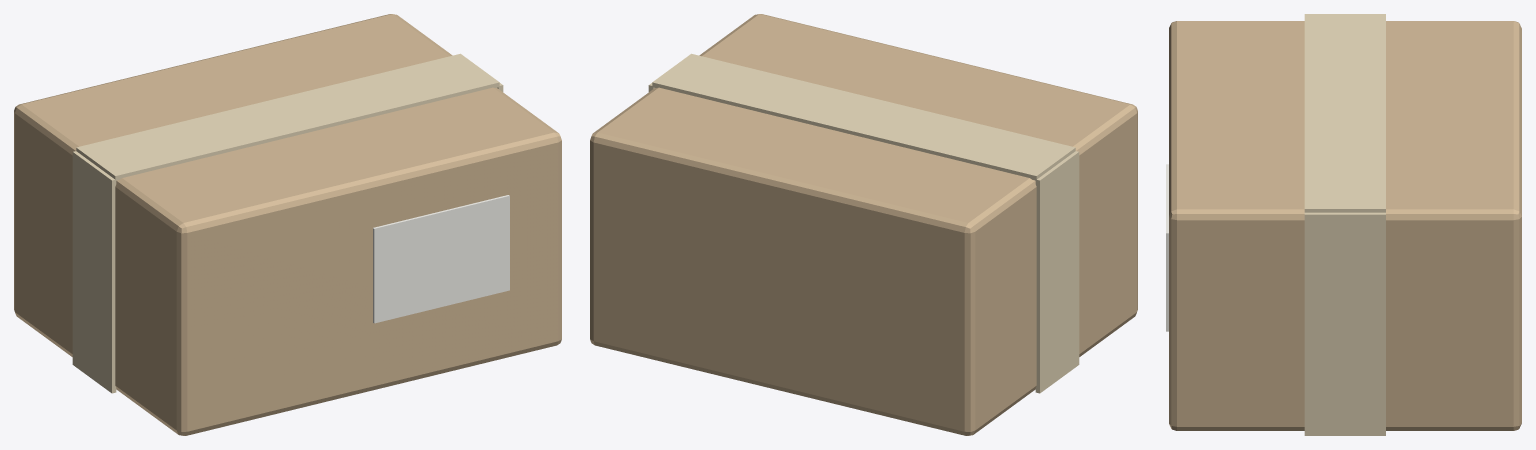
The model's file is parcel.fbx.
3 renders of one model, left to right at view 1: azimuth 30°, elevation 25°; view 2: azimuth 150°, elevation 25°; view 3: azimuth 270°, elevation 25°, orthographic. The views are drawn at different scales.
Visible parts, largest first — view 1: parcel; view 2: parcel; view 3: parcel.
Boxes of the visible parts, box(x1,y1,x2,y2) form: parcel: box(14, 14, 561, 435); parcel: box(590, 14, 1137, 435); parcel: box(1166, 14, 1521, 435).
Bounding box in the file's own units: 0.346 × 0.183 × 0.262.
